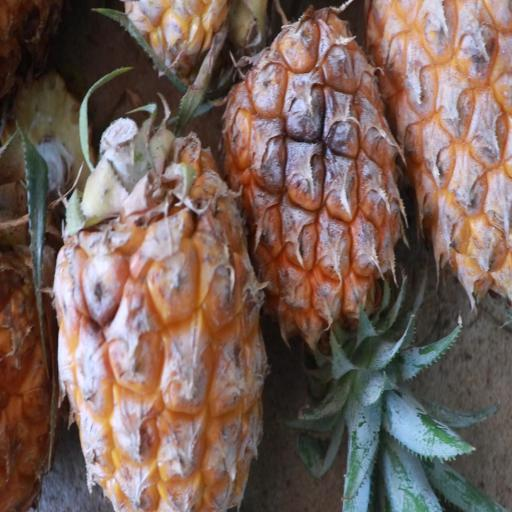Pineapple - v8 v1: (48, 121, 265, 512), (218, 5, 415, 390)
